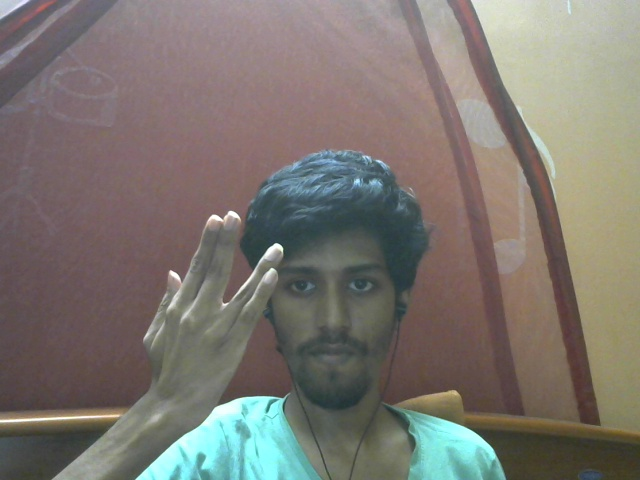LiveLong: (142, 210, 285, 416)
